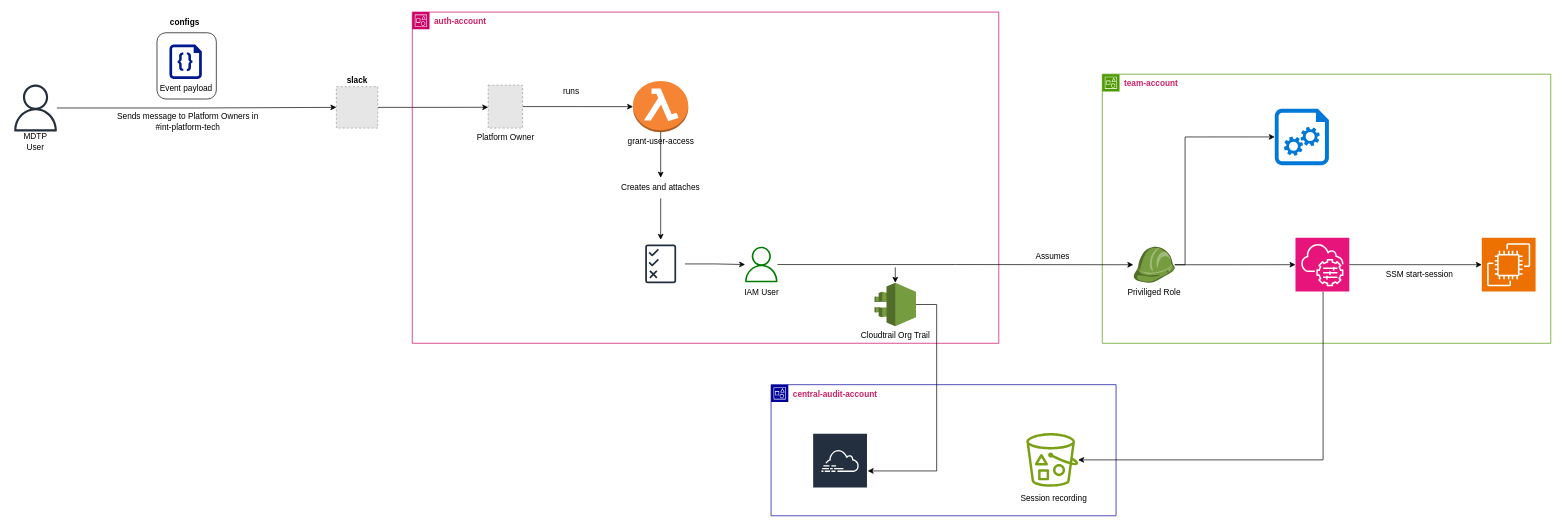
Image size: 1563x528. Some labels were removed from this diagram. Grey dashed boxes stand in for pictures. The centre of each missing label's shape, as x and y in pixels:
Assume role policy: pixel 660 263
AWS Systems Manager: pixel 1322 264
Cloudtrail logs: pixel 840 470
EC2 Instance: pixel 1508 264
Task requiring elevated privileges: pixel 1301 136
